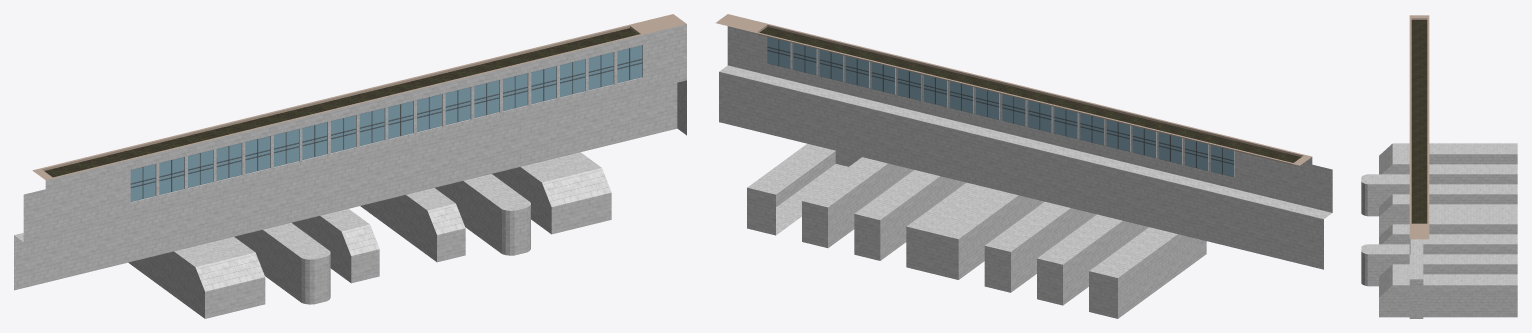
File: RiverDam_B_01.fbx
The picture shows the model from 3 angles, left to right: view 1: azimuth 30°, elevation 25°; view 2: azimuth 150°, elevation 25°; view 3: azimuth 270°, elevation 25°; orthographic projection. The views are drawn at different scales.
Visible parts, largest first — view 1: RiverDam_B_01; view 2: RiverDam_B_01; view 3: RiverDam_B_01.
Boxes of the visible parts, <box> form: RiverDam_B_01: <box>14,14,686,318</box>; RiverDam_B_01: <box>716,14,1332,318</box>; RiverDam_B_01: <box>1361,15,1517,318</box>.
Size of the model in its own units: 14726 by 3318 by 4209.
